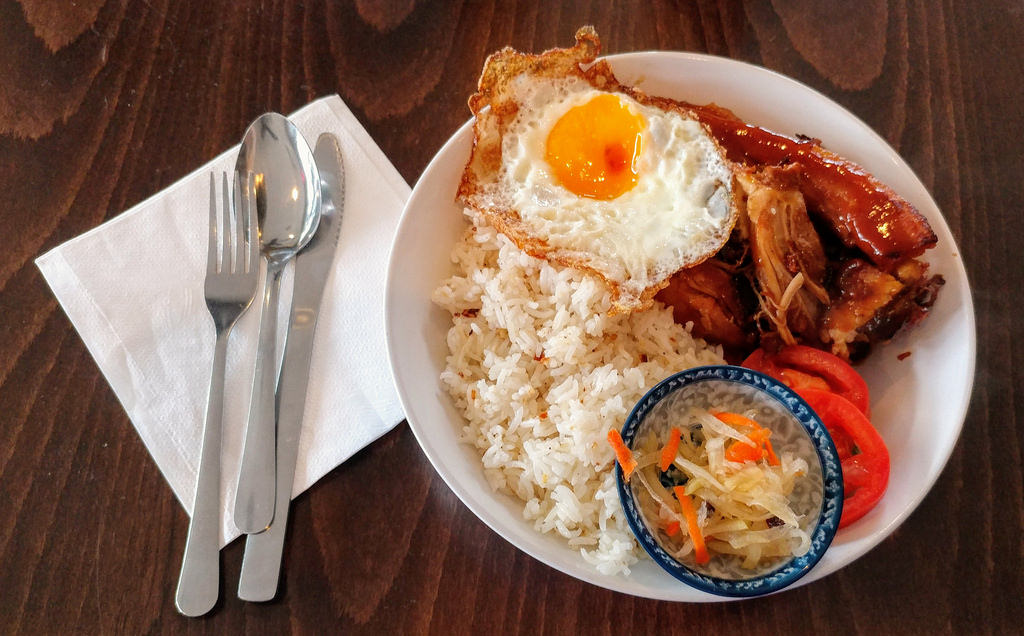fried egg: (486, 54, 722, 269)
plain rice: (475, 295, 675, 443)
